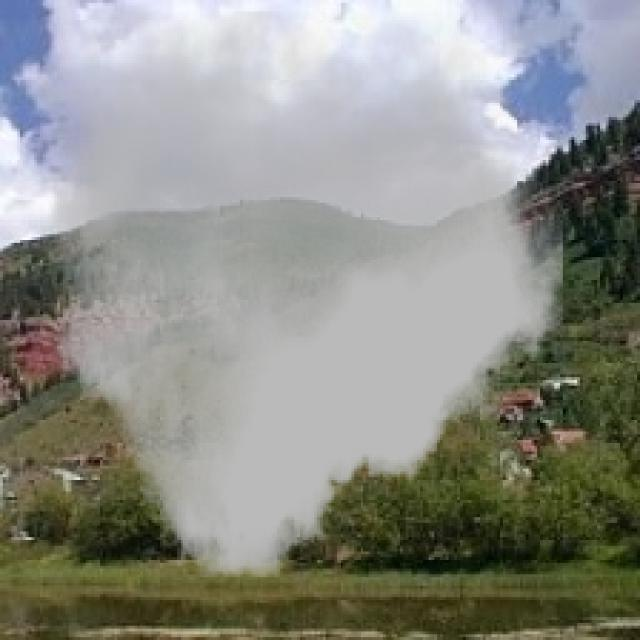smoke: (48, 12, 563, 577)
